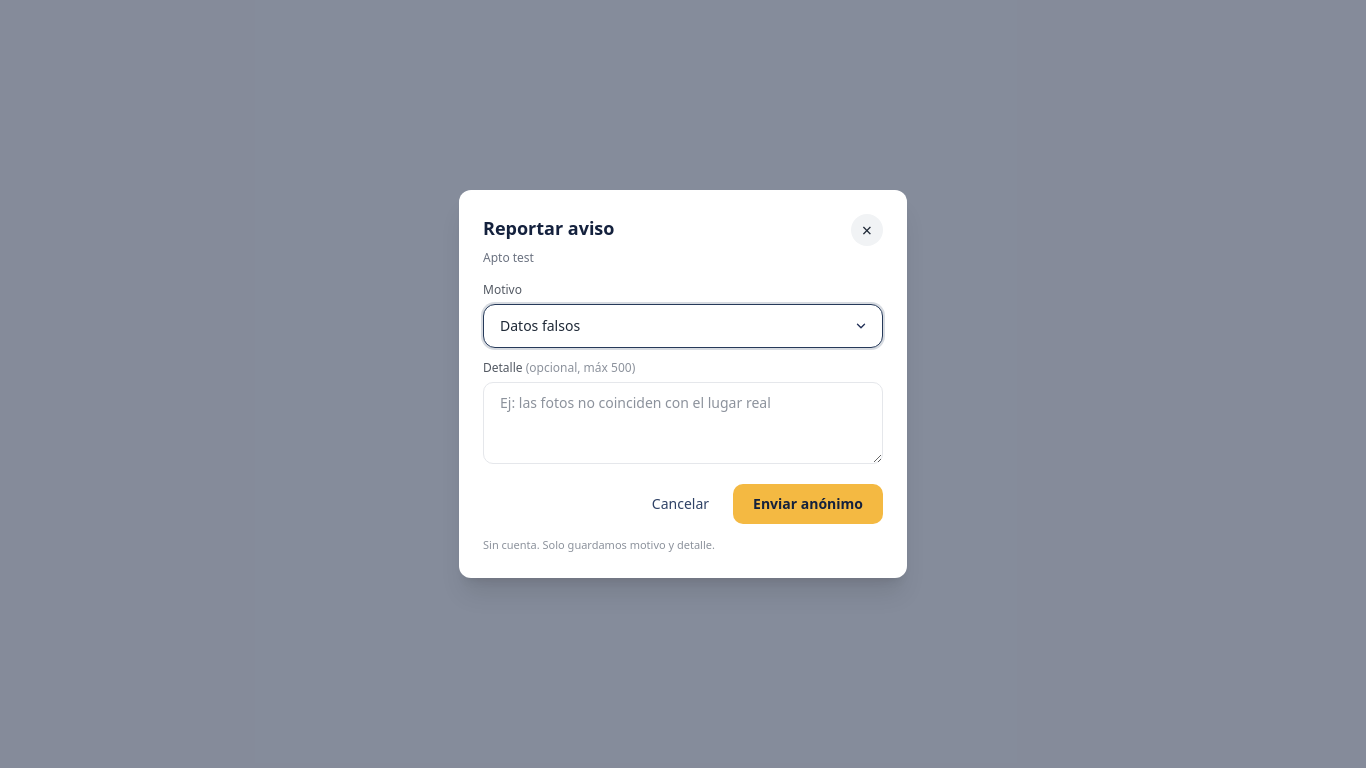
Scenario: T1 Reportes frontend › muestra mensaje anti-spam claro en 429
Click the button "Enviar anónimo".
click(808, 504)  # box [733,484,883,524]
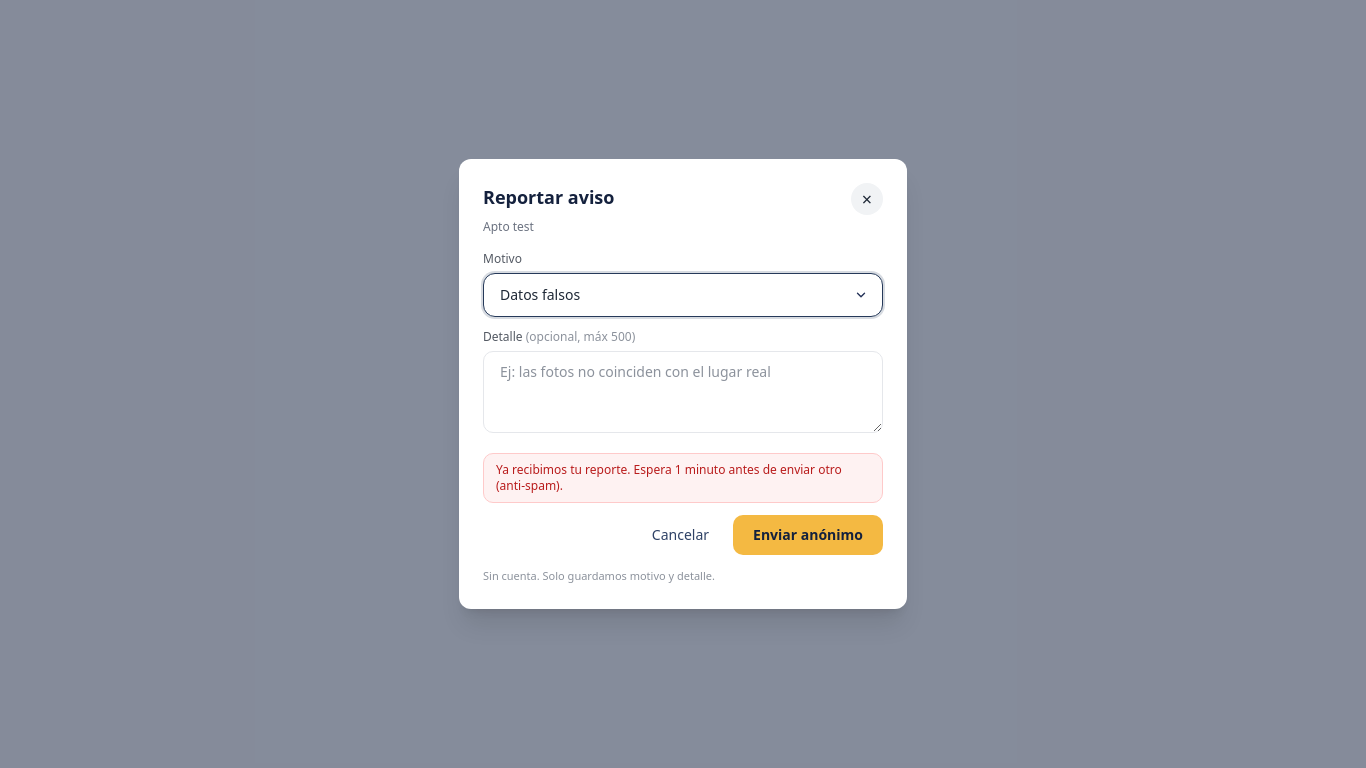
expect the text "Ya recibimos tu reporte. Espera 1 minuto antes de enviar otro (anti-spam)." is shown: met, box [483,453,883,503]
